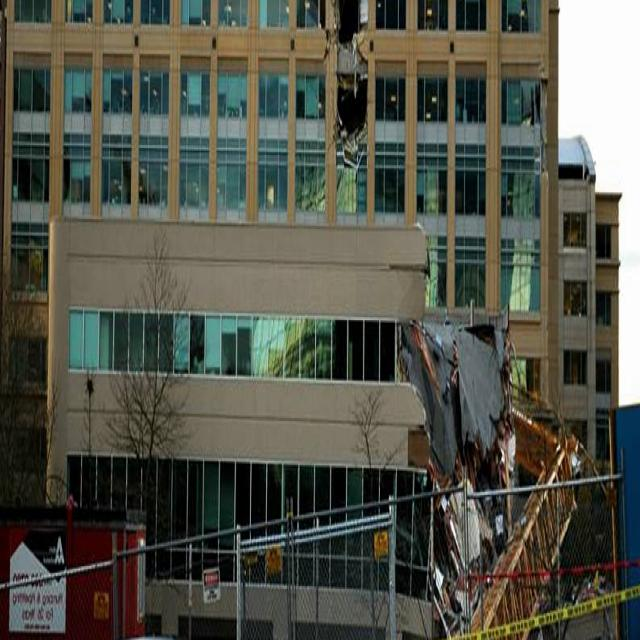Severely_Damaged: (393, 242, 580, 640), (316, 4, 380, 222)
